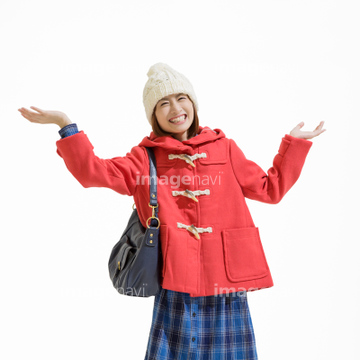face: (156, 92, 195, 130)
hand: (18, 105, 72, 125), (289, 119, 327, 138)
